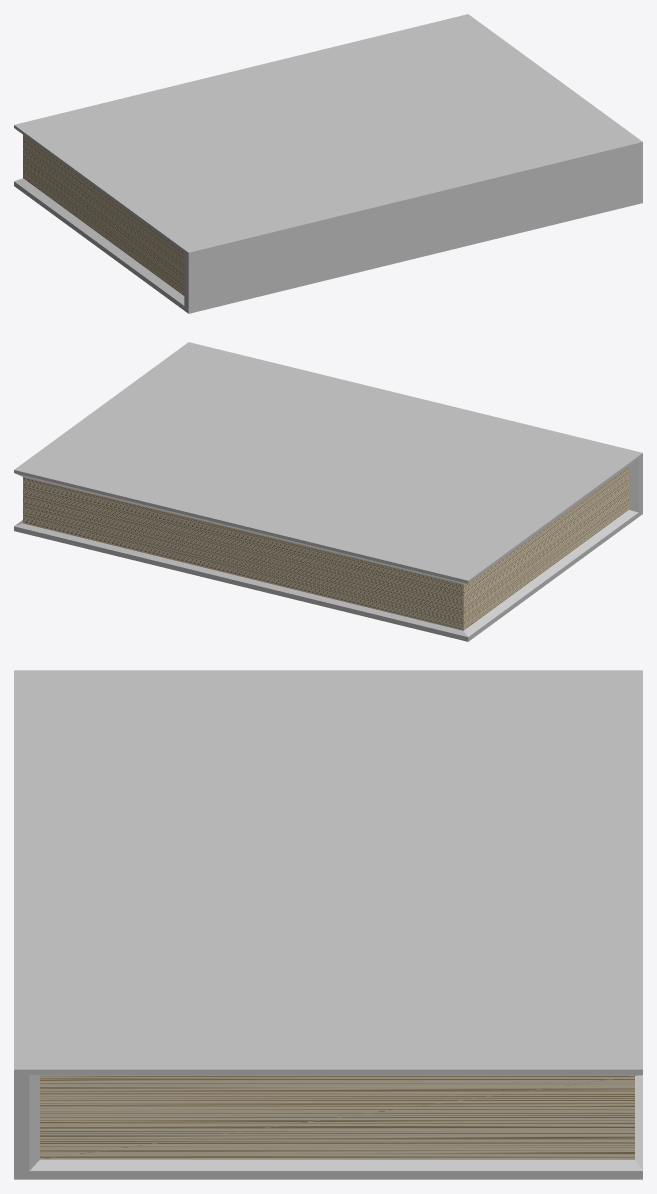
The model's file is BookClosedTex_RedDone.fbx.
3 views of the same model, one above another, from view 1: azimuth 30°, elevation 25°; view 2: azimuth 150°, elevation 25°; view 3: azimuth 270°, elevation 25° (orthographic). The views are drawn at different scales.
Visible parts, largest first — view 1: BookClosed_Rescaled; view 2: BookClosed_Rescaled; view 3: BookClosed_Rescaled.
Part boxes in pixels (x1,y1,x2,y2): BookClosed_Rescaled: (14,14,642,313); BookClosed_Rescaled: (14,342,642,641); BookClosed_Rescaled: (14,670,642,1179).
Bounding box in the file's own units: 34.73 × 4.47 × 23.13.
